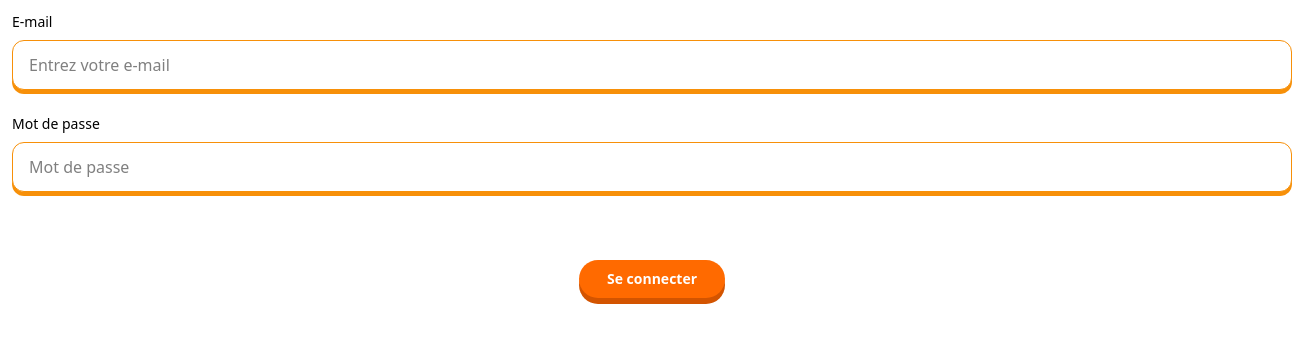
Test case: LoginForm.vue › affiche une erreur si le mot de passe est vide
The width and height of the screenshot is (1304, 345).
Type "test@mail.com" into the field with id "email" at x=652, y=65, box [12,40,1292,90]
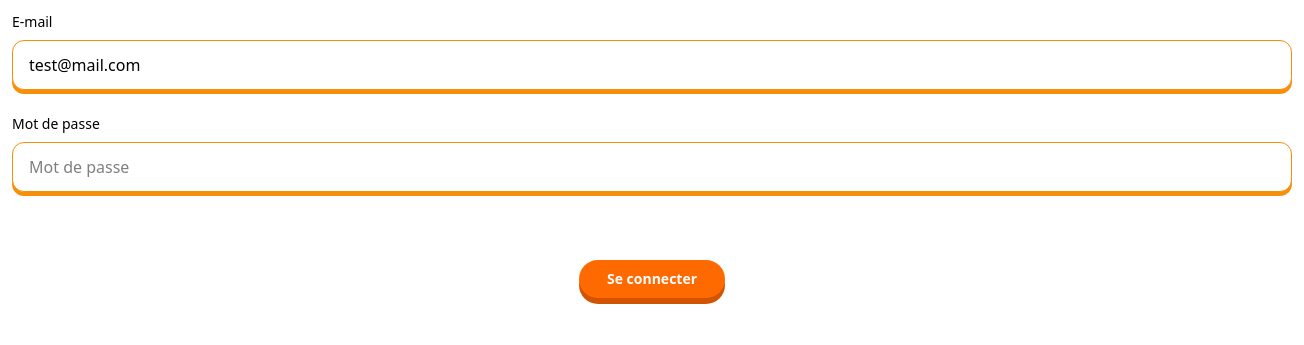
Submit the form
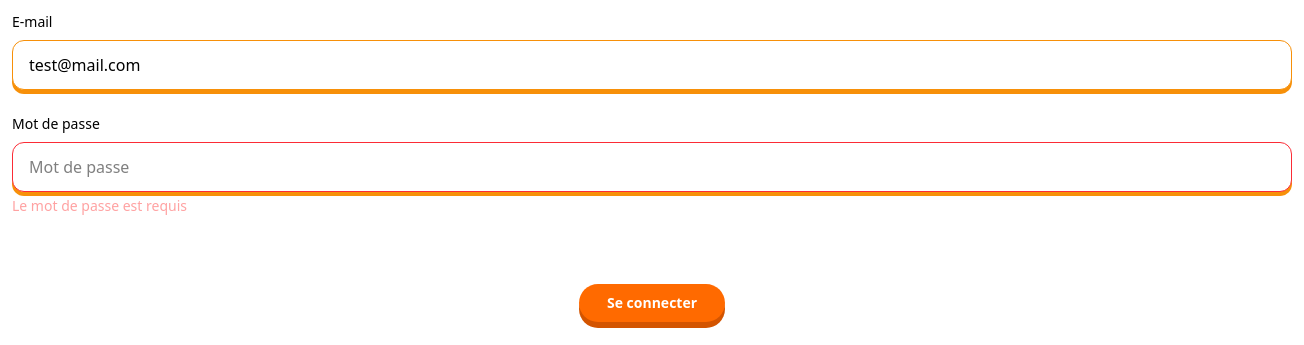
Now the form shows "Le mot de passe est requis", box [12,196,187,215]
